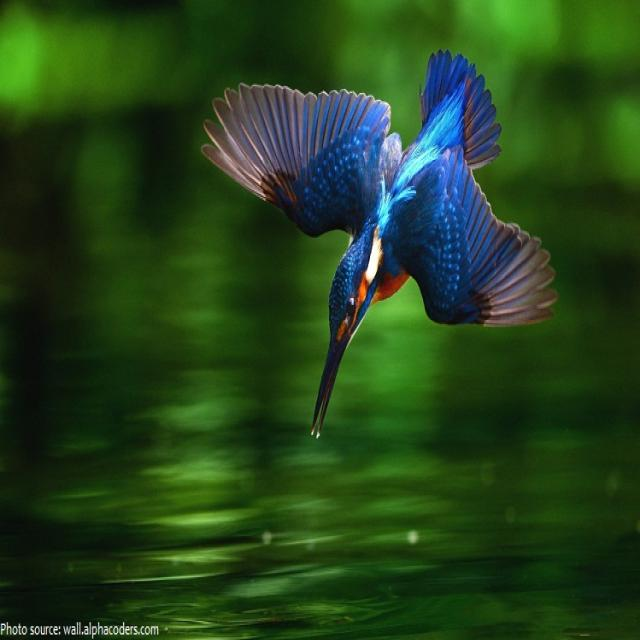kingfisher: (186, 29, 593, 466)
peacock: (0, 4, 3, 12)
